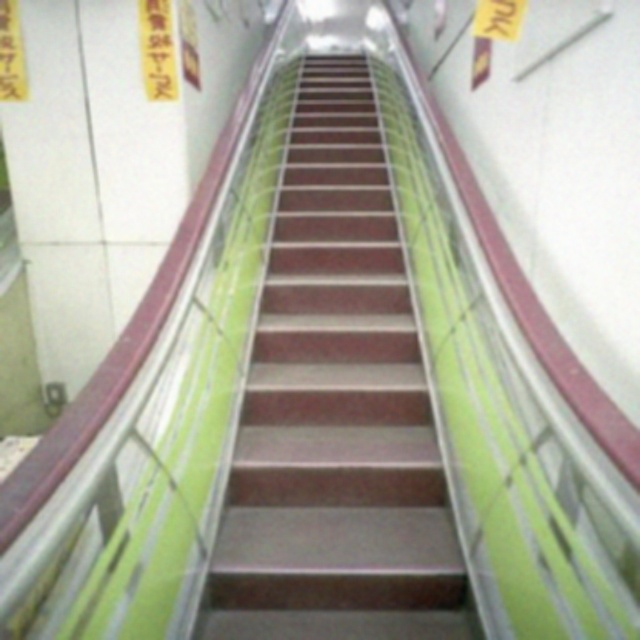stair: (180, 52, 488, 640)
